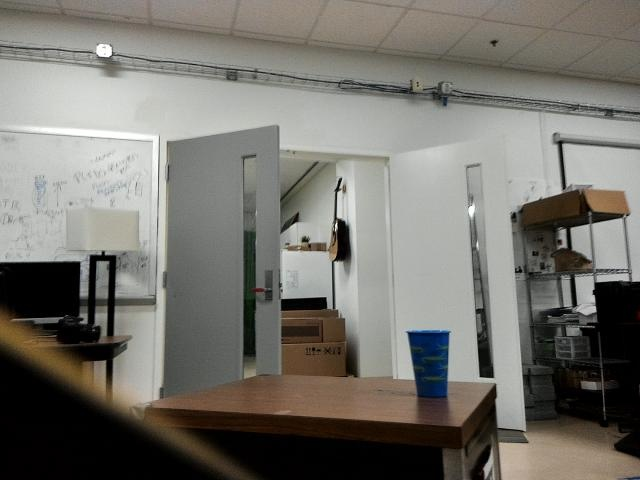water_cup: (402, 324, 458, 401)
